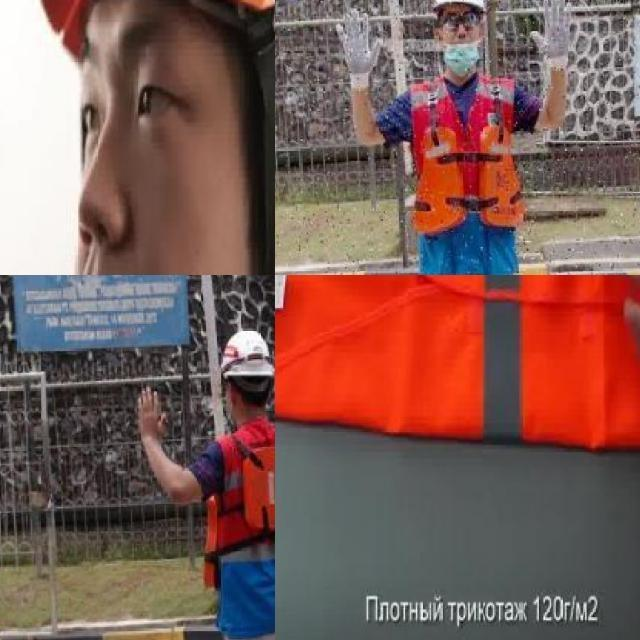apron: (336, 7, 384, 92), (528, 0, 573, 71)
